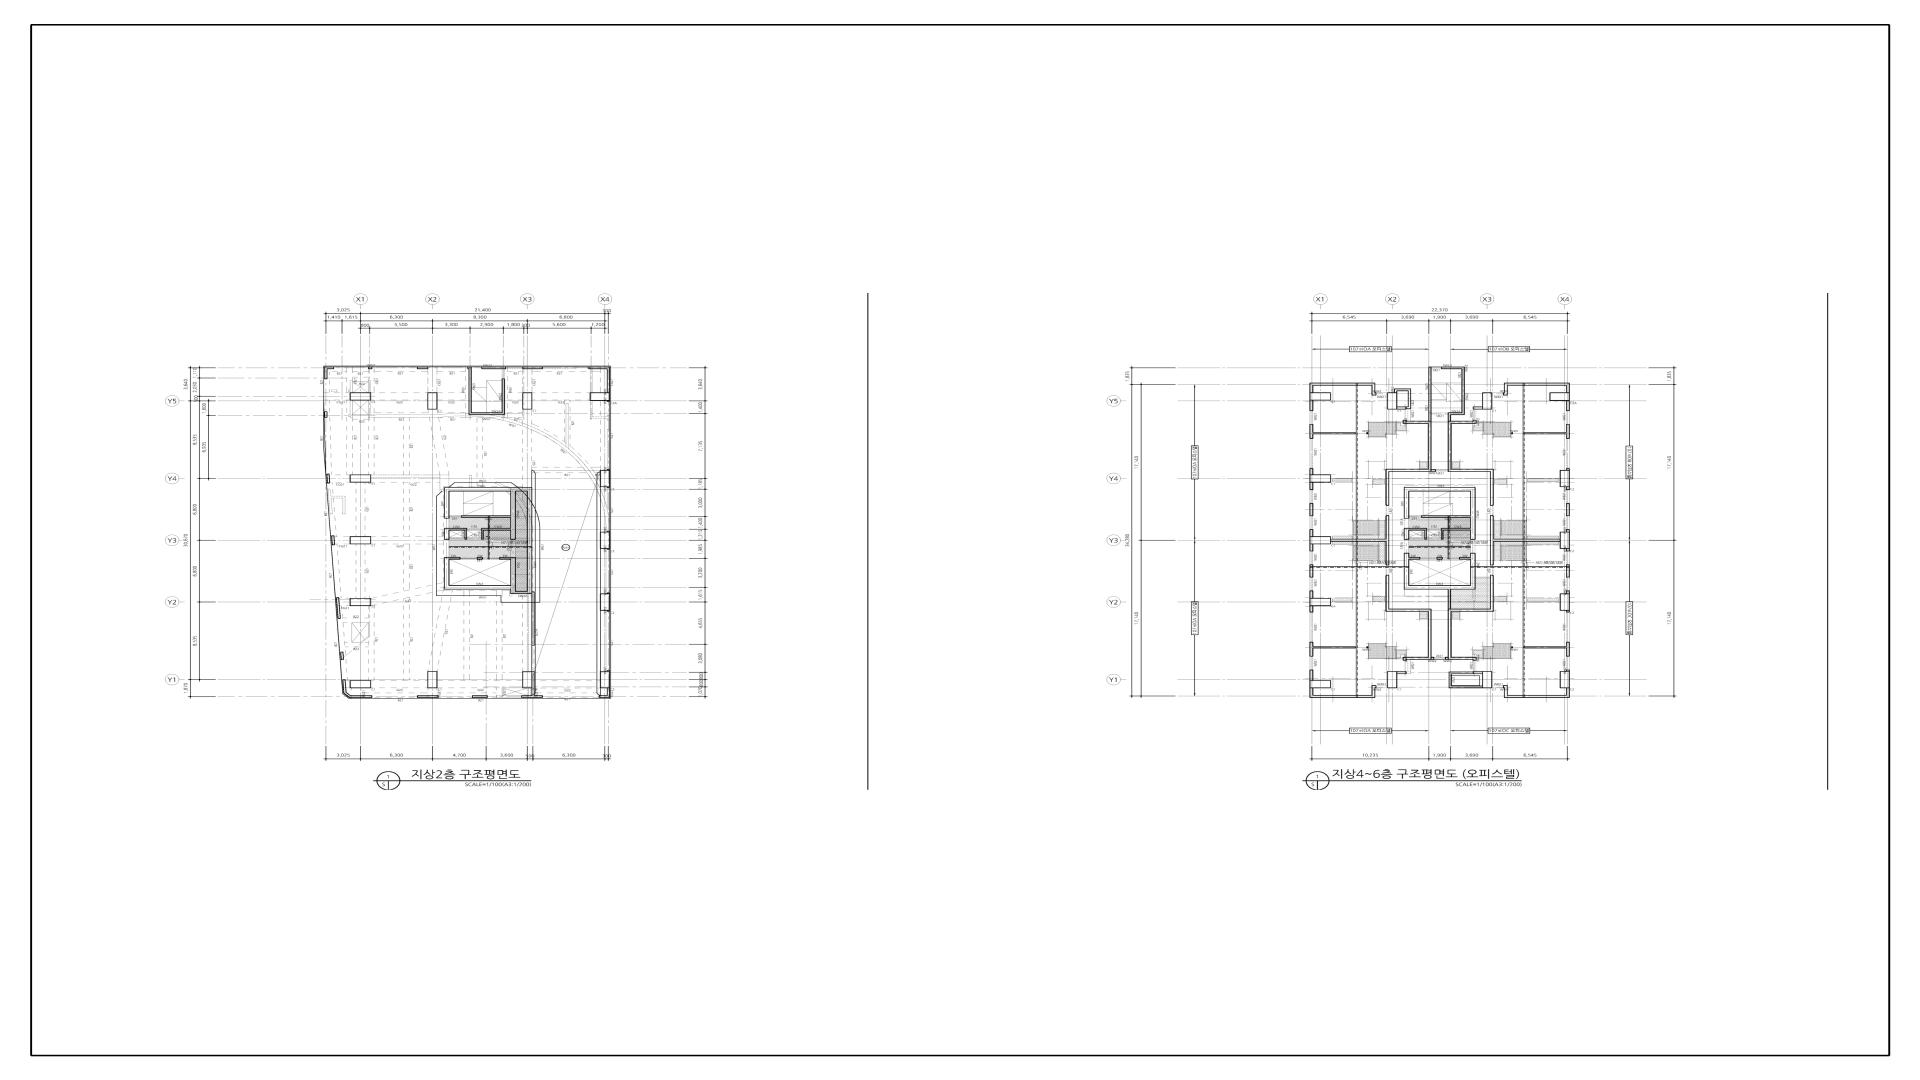wall: (323, 365, 611, 699), (1448, 609, 1494, 657), (444, 556, 510, 589), (1386, 575, 1432, 612), (1386, 469, 1428, 506), (1448, 419, 1477, 472), (1403, 612, 1432, 661), (596, 471, 601, 695), (1503, 382, 1571, 396), (1503, 686, 1569, 698), (1523, 425, 1571, 439), (1309, 642, 1356, 657), (1523, 642, 1569, 657), (1378, 669, 1407, 688), (1473, 669, 1502, 688), (1449, 671, 1482, 688), (588, 367, 609, 393), (527, 492, 533, 595), (343, 679, 372, 698), (1461, 553, 1476, 589), (1335, 686, 1377, 698), (1404, 553, 1418, 589), (531, 469, 535, 592), (444, 487, 533, 492), (531, 592, 535, 695), (1428, 423, 1436, 472), (1404, 487, 1476, 492), (1441, 527, 1470, 539), (1473, 393, 1493, 410), (1394, 389, 1411, 406), (444, 527, 467, 539), (1404, 527, 1427, 539), (1309, 382, 1375, 386), (510, 492, 516, 539), (1470, 492, 1476, 539), (1309, 688, 1335, 698), (1560, 468, 1569, 491), (1490, 516, 1494, 566), (468, 367, 472, 415), (1428, 367, 1432, 413), (427, 671, 438, 688), (427, 393, 438, 410), (522, 393, 533, 410), (510, 560, 516, 595), (1560, 531, 1571, 549), (1387, 393, 1398, 410), (349, 599, 372, 607), (349, 537, 372, 545), (349, 475, 372, 483), (1461, 371, 1465, 415), (1494, 539, 1560, 542), (1418, 585, 1461, 589), (1560, 670, 1569, 688), (349, 680, 371, 688), (349, 393, 371, 401), (1549, 393, 1571, 401), (1309, 393, 1331, 401), (1309, 537, 1331, 545), (1309, 680, 1331, 688), (522, 671, 531, 688), (600, 531, 609, 549), (600, 593, 609, 611), (589, 393, 609, 401), (1331, 539, 1386, 542), (444, 492, 450, 518), (1404, 492, 1410, 518), (601, 671, 609, 688), (601, 469, 609, 487), (1490, 472, 1494, 506), (1490, 575, 1494, 609), (1313, 475, 1331, 483), (1313, 599, 1331, 607), (1386, 516, 1389, 566), (1444, 657, 1477, 661), (462, 516, 510, 518), (1422, 516, 1470, 518), (324, 367, 334, 380), (1403, 419, 1432, 423), (1560, 593, 1567, 611), (336, 597, 342, 618), (1452, 469, 1494, 472), (599, 688, 609, 698), (1441, 367, 1465, 371), (502, 378, 505, 413), (1309, 468, 1313, 491), (472, 413, 505, 415), (1309, 591, 1313, 612), (481, 527, 510, 530), (481, 367, 506, 369), (500, 556, 516, 560), (417, 695, 439, 698), (521, 695, 543, 698), (1309, 425, 1313, 439), (522, 367, 543, 369), (1313, 433, 1356, 434), (1567, 591, 1569, 612), (1398, 406, 1411, 410), (1309, 564, 1313, 578), (1448, 589, 1451, 609), (1567, 564, 1571, 578), (1371, 386, 1377, 396), (516, 591, 527, 595), (1309, 504, 1313, 516), (1567, 504, 1571, 516), (331, 535, 335, 546), (472, 695, 488, 698), (1309, 401, 1313, 411), (1309, 670, 1313, 680), (1567, 401, 1571, 411), (340, 651, 344, 661), (1448, 413, 1461, 415), (417, 367, 429, 369), (1309, 385, 1313, 393), (1309, 529, 1313, 537), (1428, 413, 1432, 421), (1567, 385, 1571, 393), (1458, 556, 1470, 559), (327, 473, 330, 484), (1410, 556, 1420, 559), (1309, 545, 1313, 551), (481, 530, 484, 539), (324, 411, 327, 418), (1436, 556, 1443, 559), (477, 556, 483, 559), (1448, 415, 1451, 421), (368, 367, 372, 369), (1567, 549, 1571, 551), (1567, 529, 1569, 531)
